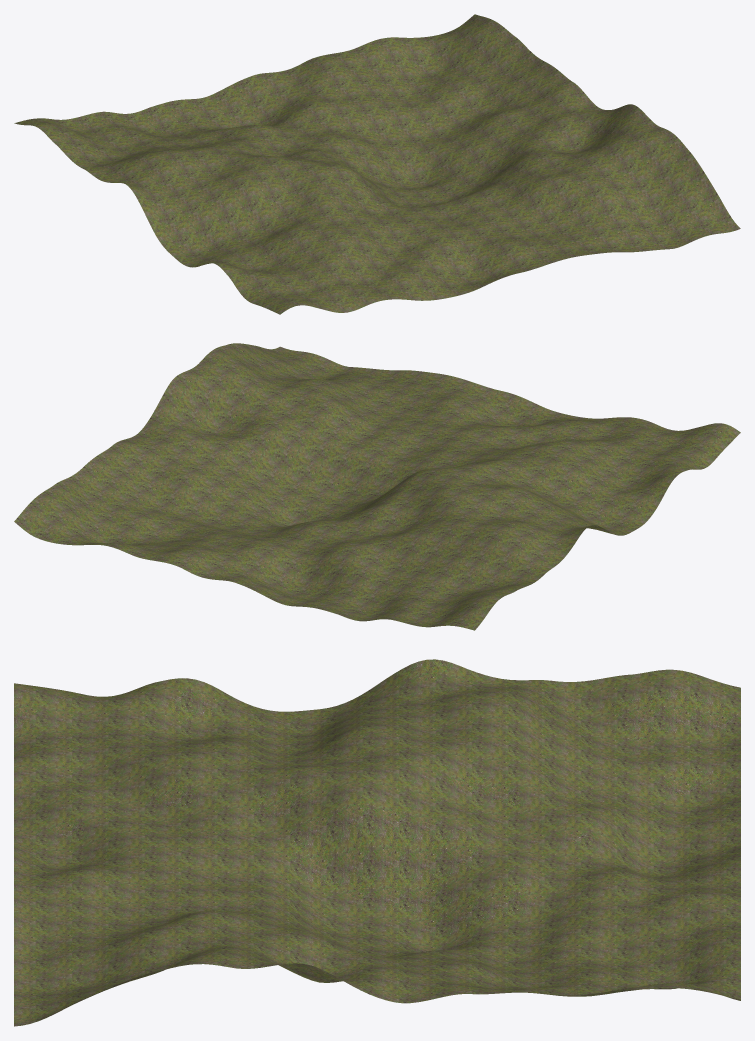
Rendered from collider.glb.
3 renders of one model, top to bottom at view 1: azimuth 30°, elevation 25°; view 2: azimuth 150°, elevation 25°; view 3: azimuth 270°, elevation 25°, orthographic. The views are drawn at different scales.
Parts seen in each view (by area): view 1: Plane; view 2: Plane; view 3: Plane.
Boxes of the visible parts, left/top/right/bottom form: Plane: left=14, top=14, right=740, bottom=314; Plane: left=14, top=343, right=740, bottom=630; Plane: left=14, top=659, right=740, bottom=1026.
Bounding box in the file's own units: 575 × 86.51 × 575.
1 material, 1 textured.
